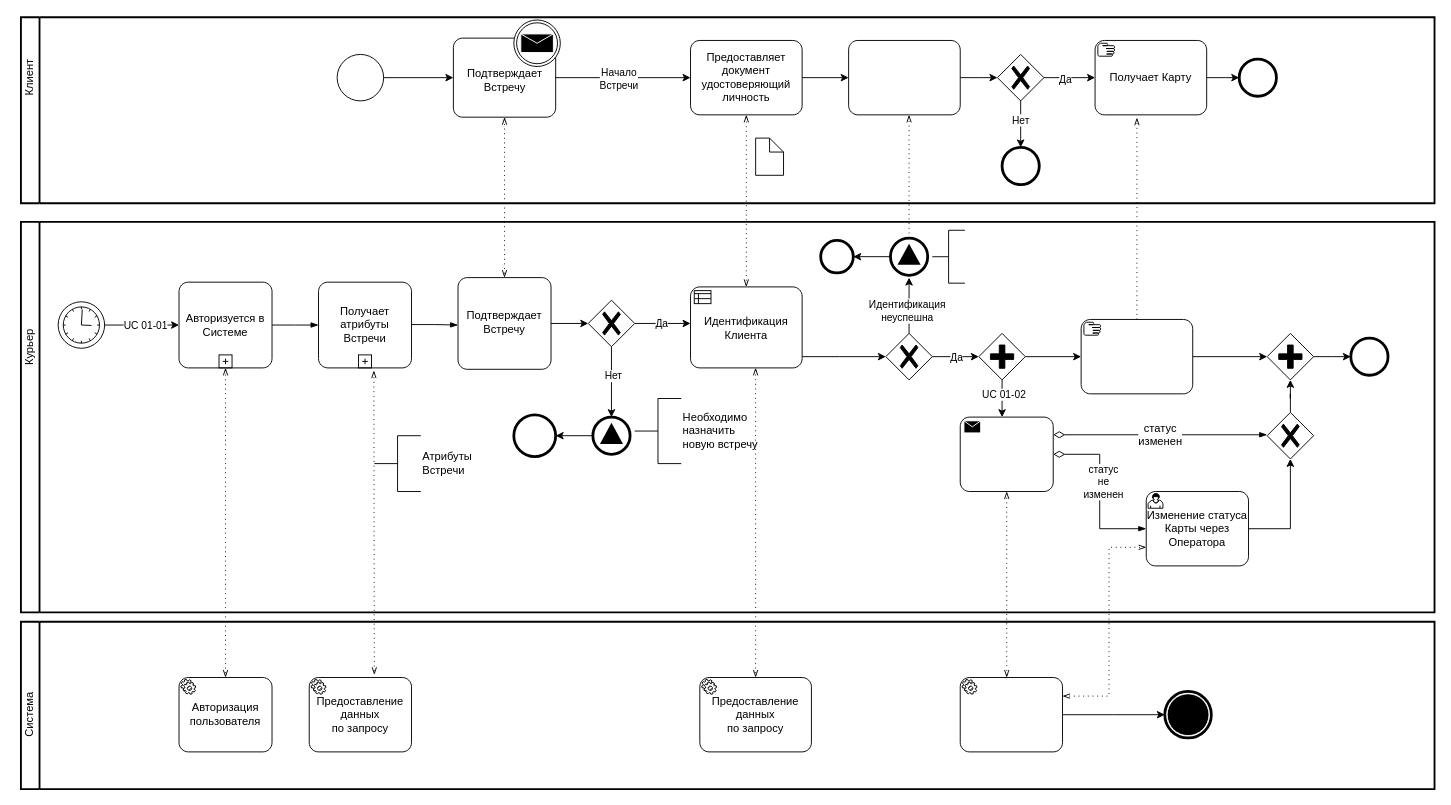
This 1451x805 diagram has some shape labels left out. The box of each missing label's shape, as (x1, y1, x2, y2) in pixels:
Клиент не прошел идентификацию: (931, 229, 965, 283)
Отправляет новый статус Карты: (959, 416, 1053, 492)
Паспорт: (755, 137, 784, 175)
Передаёт Карту Клиенту: (1080, 319, 1193, 394)
Проходит идентификацию: (848, 40, 960, 115)
Статус Карты "Получена Клиентом": (959, 677, 1063, 752)
